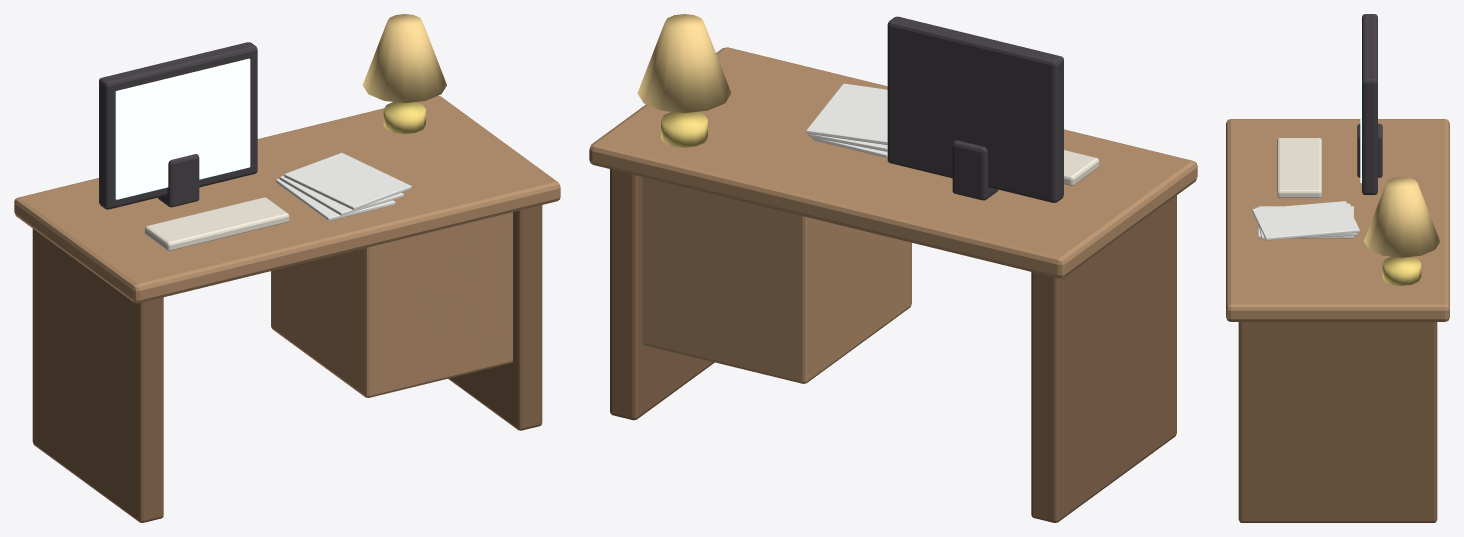
Rendered from DeskComputer.fbx.
The picture shows the model from 3 angles, left to right: view 1: azimuth 30°, elevation 25°; view 2: azimuth 150°, elevation 25°; view 3: azimuth 270°, elevation 25°; orthographic projection. The views are drawn at different scales.
Visible parts, largest first — view 1: DeskComputer; view 2: DeskComputer; view 3: DeskComputer.
Boxes of the visible parts, left/top/right/bottom form: DeskComputer: left=14, top=14, right=560, bottom=522; DeskComputer: left=589, top=14, right=1197, bottom=522; DeskComputer: left=1226, top=14, right=1449, bottom=522.
Bounding box in the file's own units: 140 × 120 × 70.
